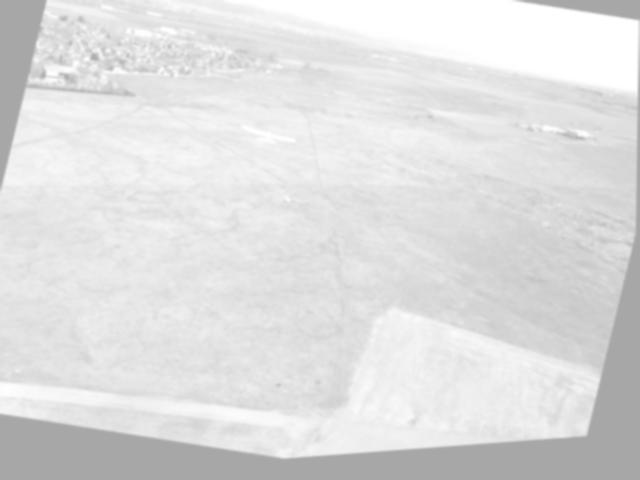hedef: (225, 110, 309, 175)
